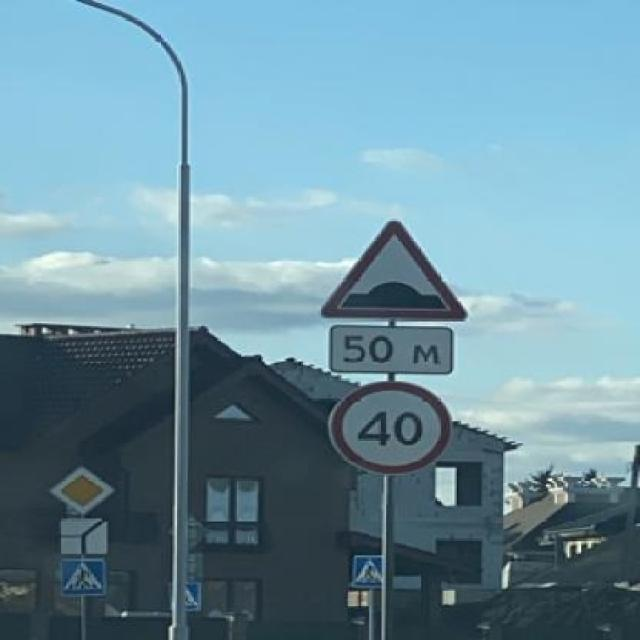forb_speed_over_40: (336, 378, 450, 472)
